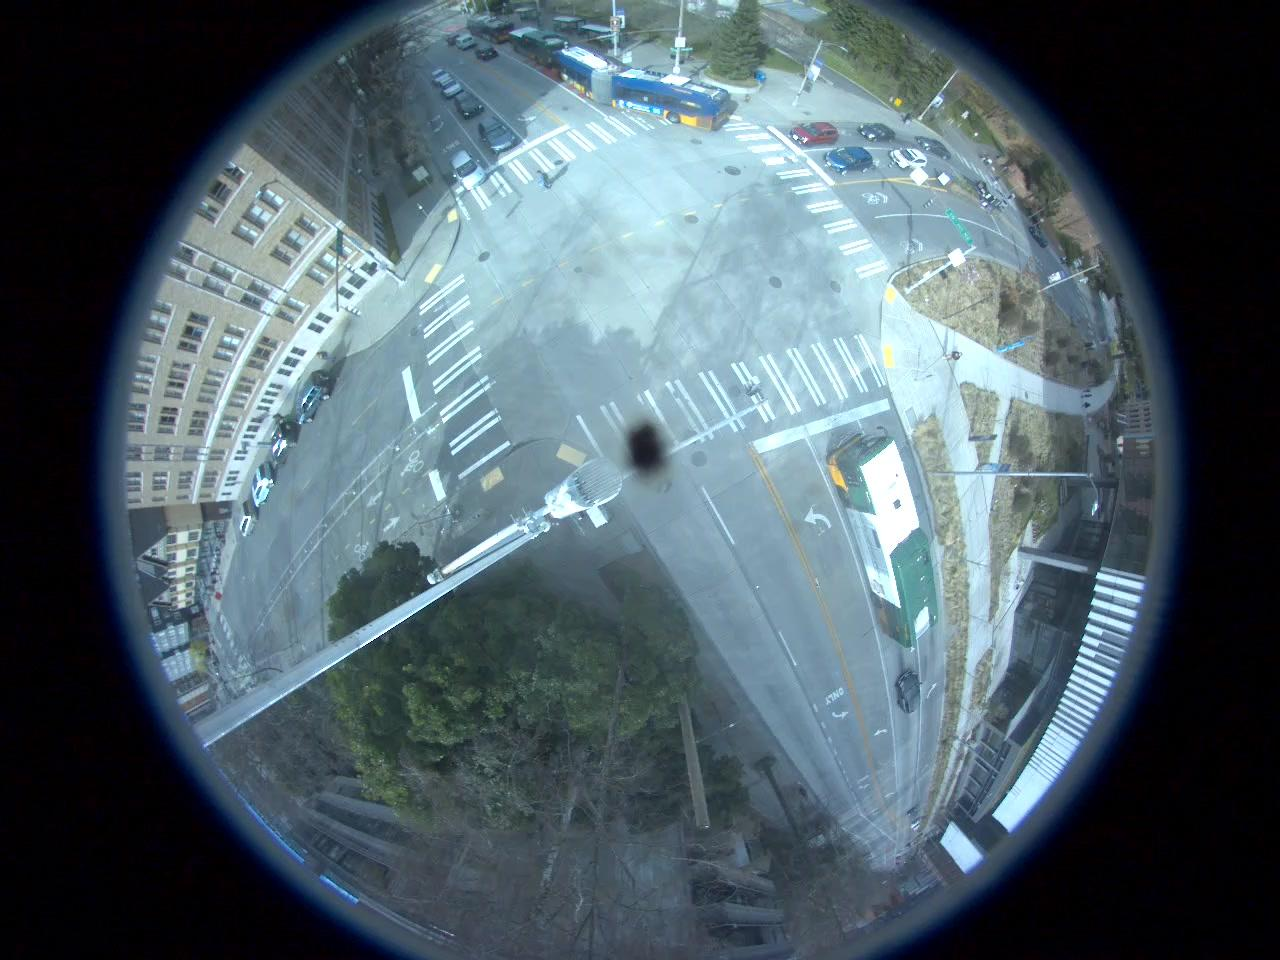bus: (826, 436, 943, 642), (556, 45, 734, 130), (507, 25, 569, 66), (465, 16, 513, 41)
car: (297, 372, 331, 420), (450, 148, 486, 192), (823, 146, 878, 174), (480, 114, 515, 154), (272, 422, 298, 470), (792, 120, 840, 146), (893, 667, 920, 713), (888, 145, 931, 171), (856, 120, 896, 144), (252, 462, 274, 505), (917, 133, 952, 157), (454, 93, 484, 120), (238, 502, 258, 536), (474, 43, 501, 65), (441, 78, 461, 100)
person: (536, 163, 558, 198), (940, 350, 968, 362)
